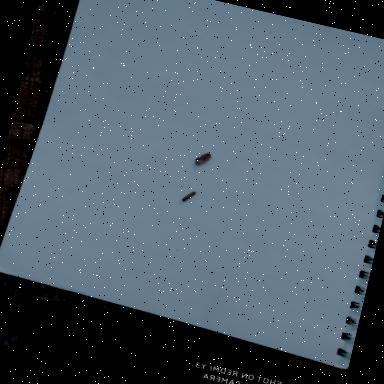pbw: (193, 149, 213, 169), (182, 189, 196, 203)
